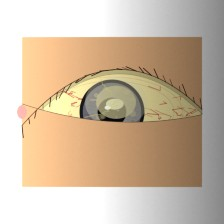corneal_ulcer: (84, 76, 149, 128)
